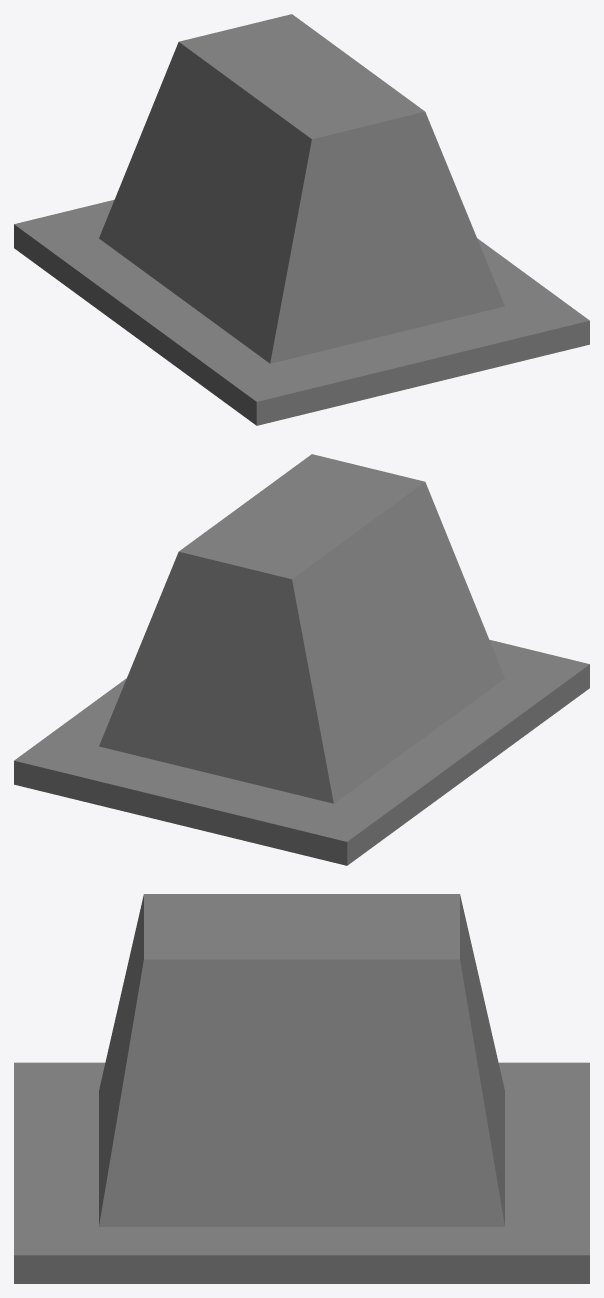
File: hood textured.fbx
3 renders of one model, top to bottom at view 1: azimuth 30°, elevation 25°; view 2: azimuth 150°, elevation 25°; view 3: azimuth 270°, elevation 25°, orthographic. The views are drawn at different scales.
Visible parts, largest first — view 1: hood; view 2: hood; view 3: hood.
Boxes of the visible parts, x1,y1,x2,y2 form: hood: (14, 14, 589, 425); hood: (14, 454, 589, 865); hood: (14, 894, 589, 1283).
Bounding box in the file's own units: 1089 × 686 × 1375.
